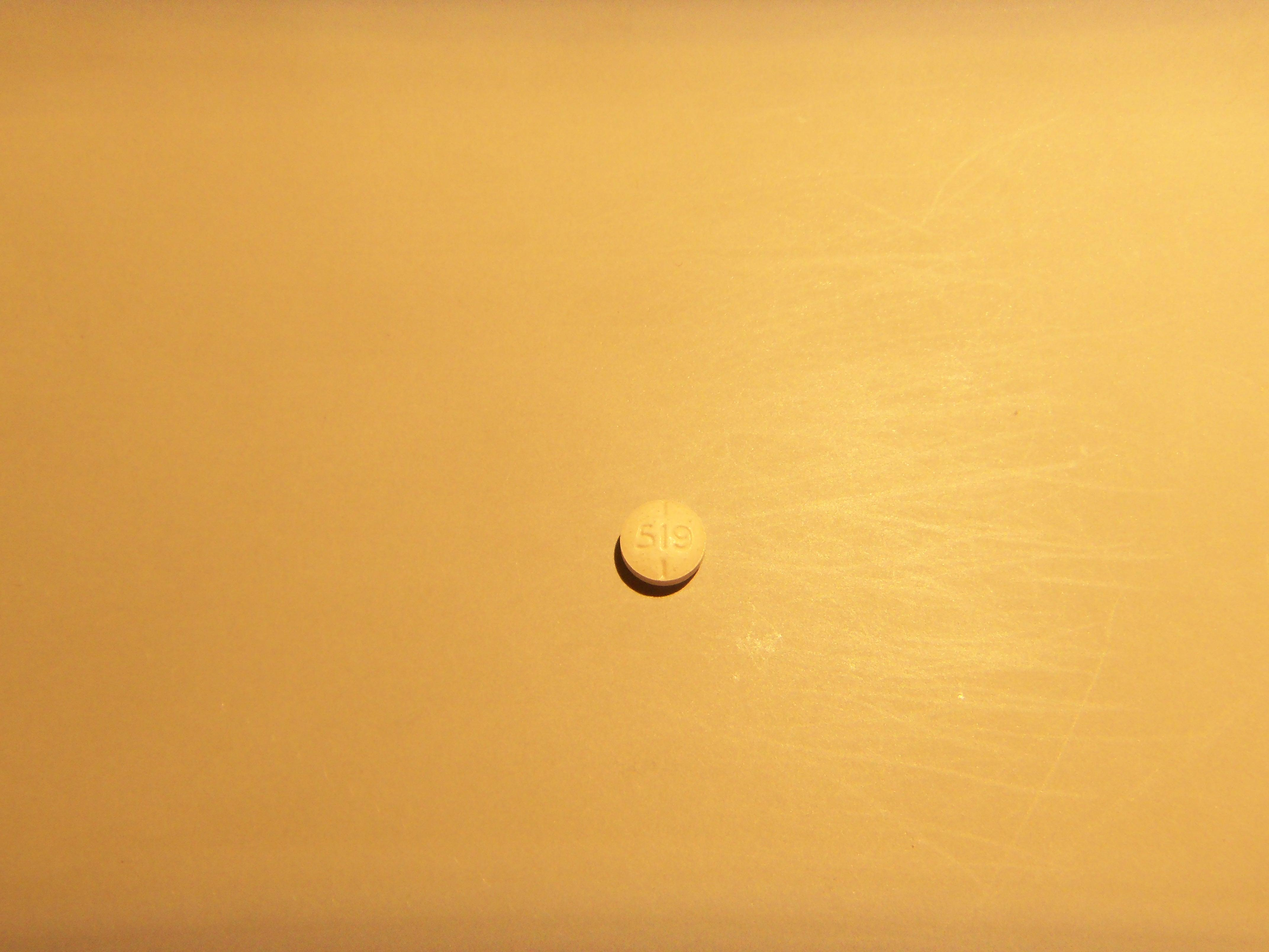Pill: (613, 493, 712, 594)
